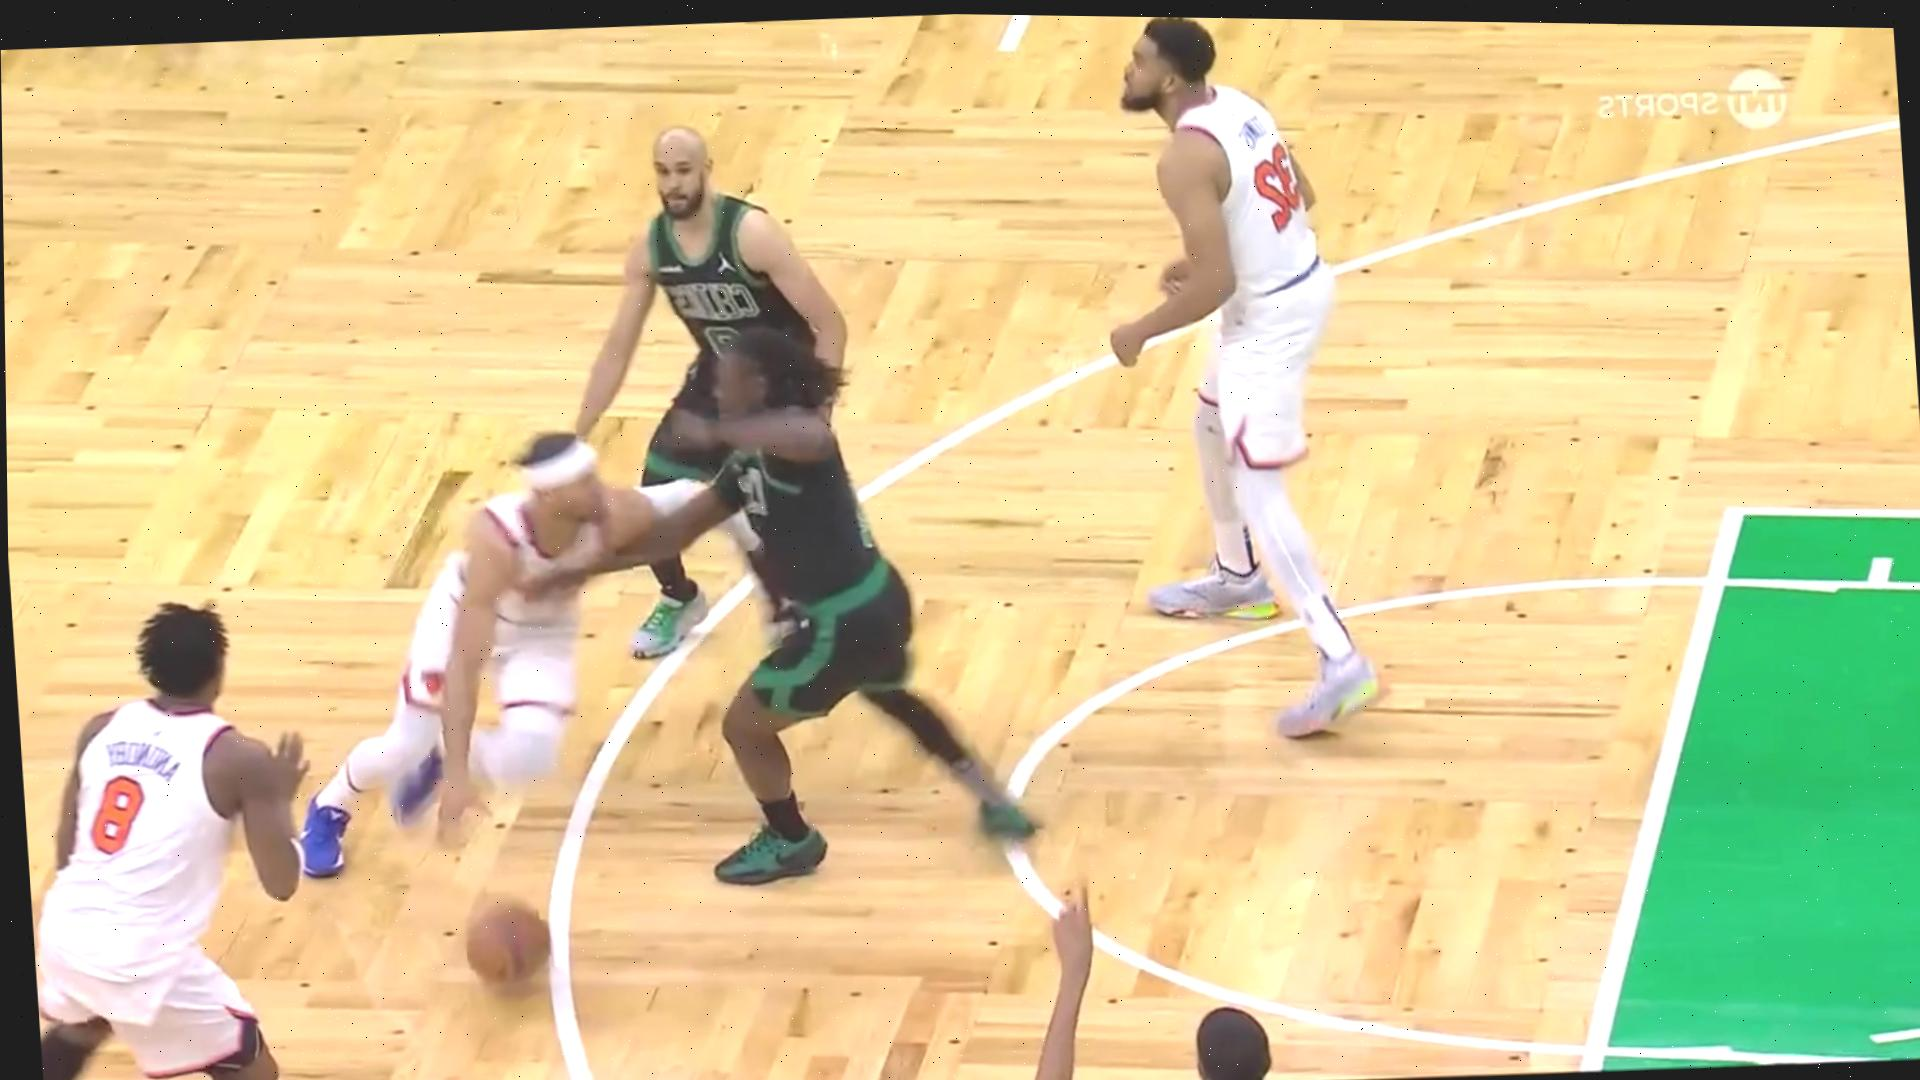foul: (306, 331, 1009, 944)
